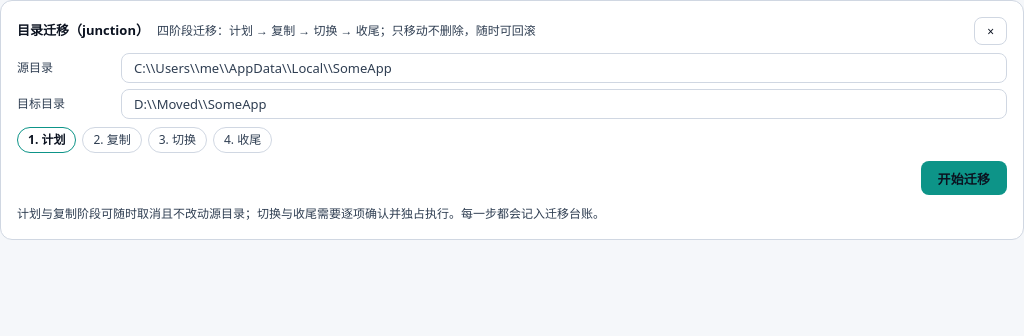
Scenario: renders plan rejections in the user's language
Type "C:\\src" into the field labelled "源目录" at (564, 68), box [121, 53, 1007, 83]
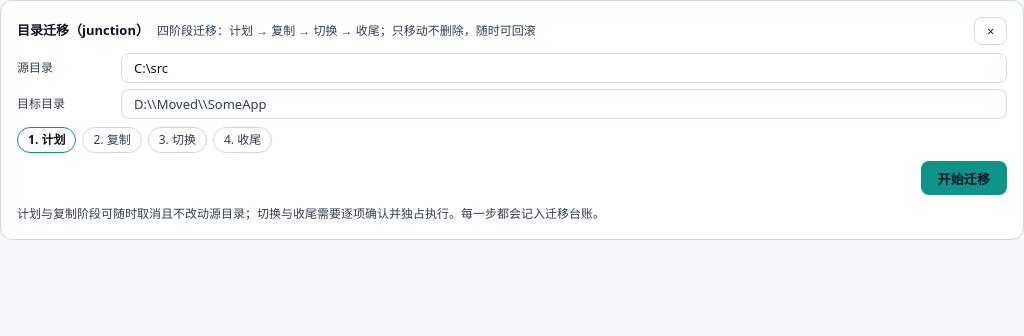
Type "D:\\dst" into the field labelled "目标目录" at (564, 104), box [121, 89, 1007, 119]
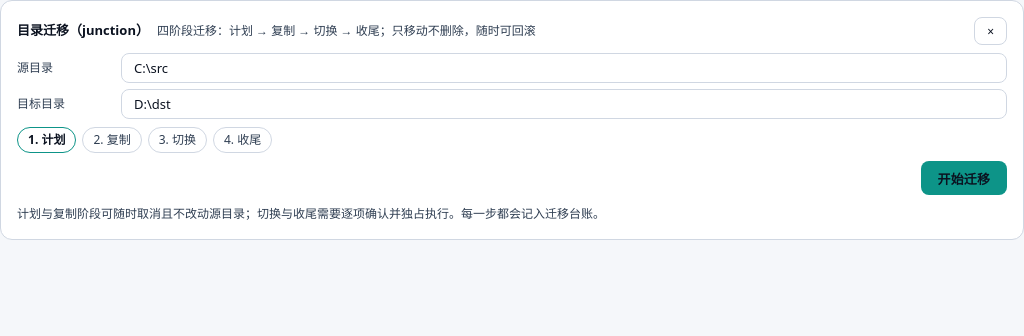
Click the button "开始迁移" at (964, 178), box [921, 161, 1007, 195]
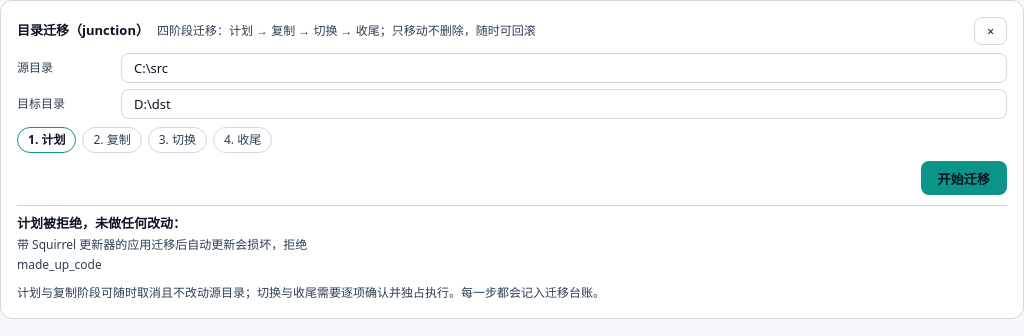
Now the text "带 Squirrel 更新器的应用迁移后自动更新会损坏，拒绝" is shown, box [17, 236, 307, 252]
Now the text "made_up_code" is shown, box [17, 256, 102, 272]
